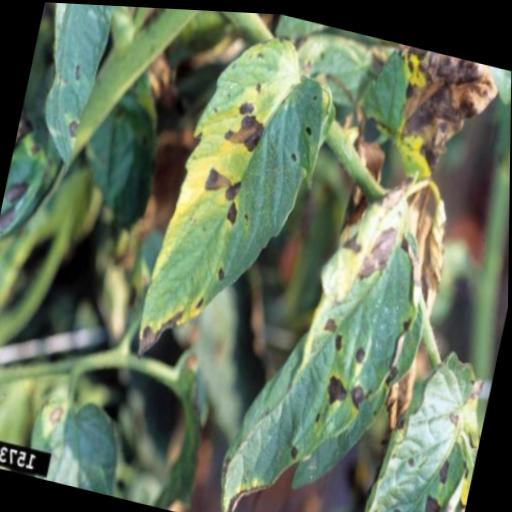Early Blight: (215, 158, 440, 512), (123, 23, 345, 367), (356, 335, 490, 512), (17, 1, 121, 177)
